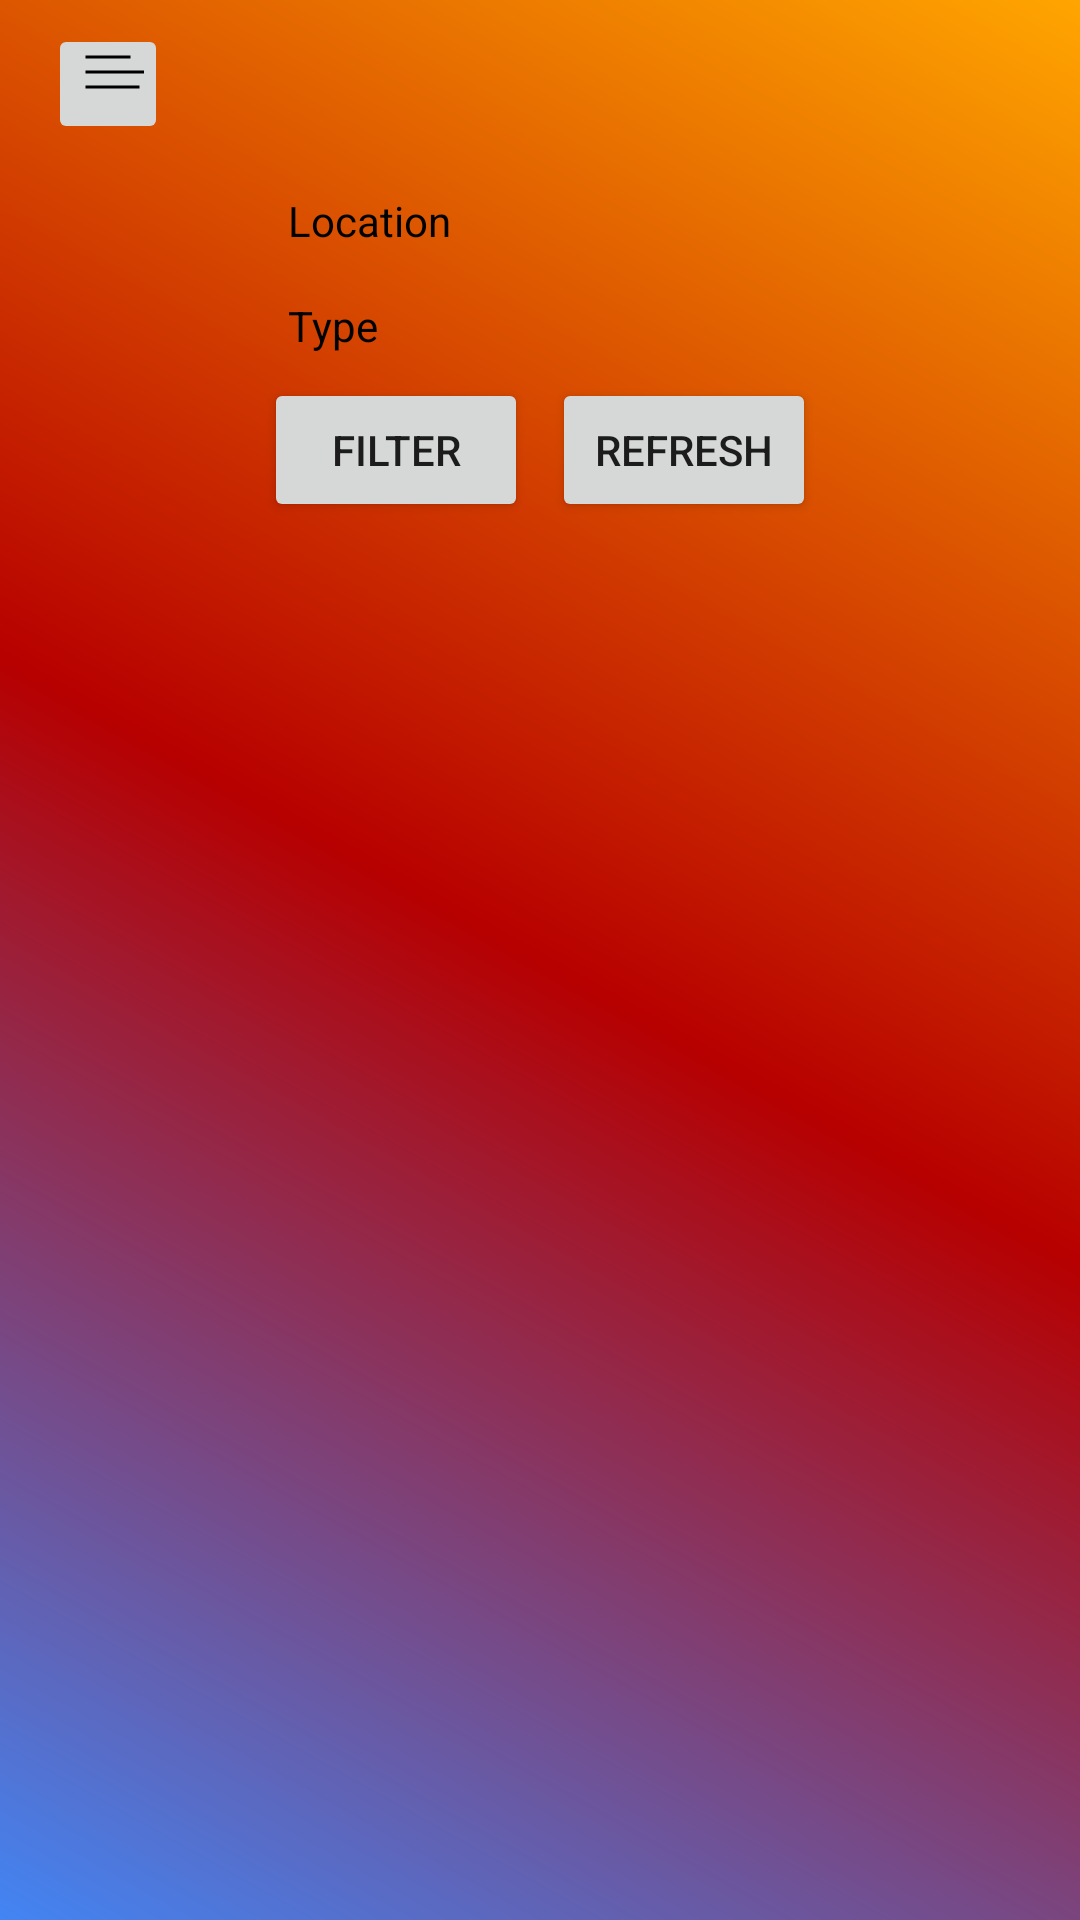

Named icons in this screenshot (1080px x 1920px) and their centers, [x,y]:
hambar: [108,84]
